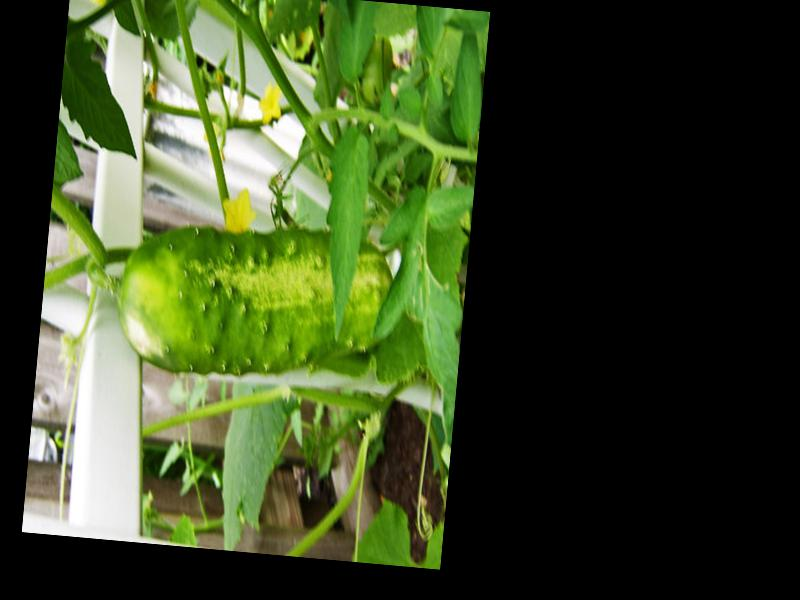Cucumber: (112, 219, 393, 389)
